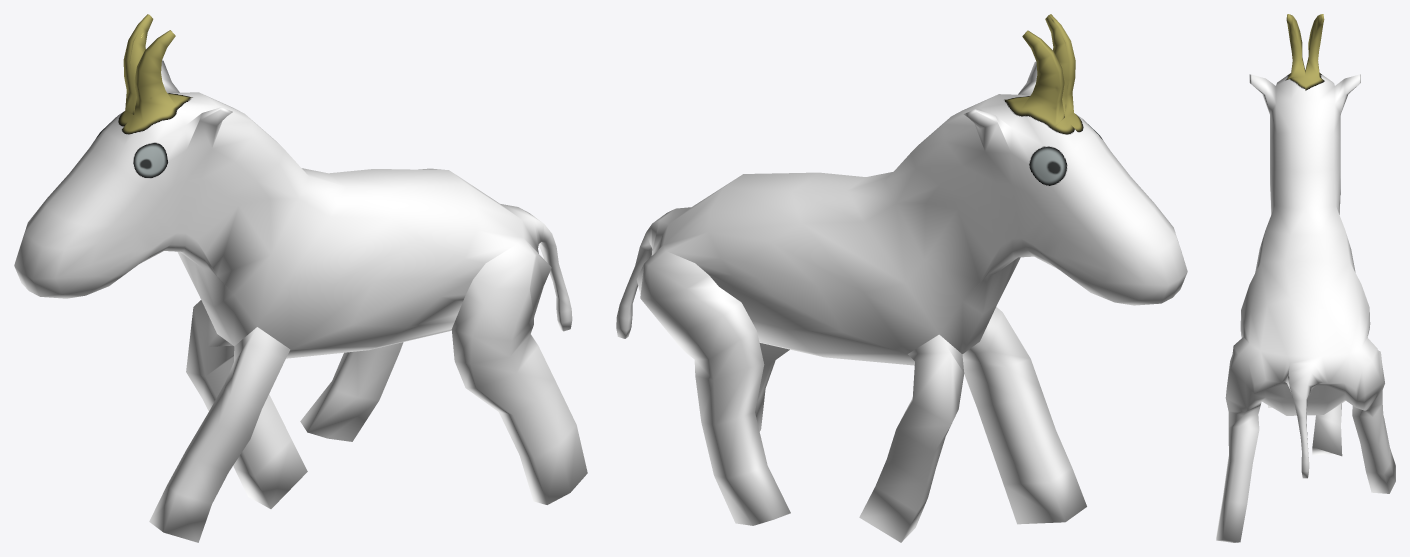
Rendered from goatAnim_000013.obj.
3 renders of one model, left to right at view 1: azimuth 30°, elevation 25°; view 2: azimuth 150°, elevation 25°; view 3: azimuth 270°, elevation 25°, orthographic. The views are drawn at different scales.
Visible parts, largest first — view 1: Cube; view 2: Cube; view 3: Cube.
Part boxes in pixels (<box>): Cube: <box>14,14,587,542</box>; Cube: <box>616,14,1187,542</box>; Cube: <box>1216,14,1395,542</box>.
Bounding box in the file's own units: 1.31 × 1.2 × 0.4842.
